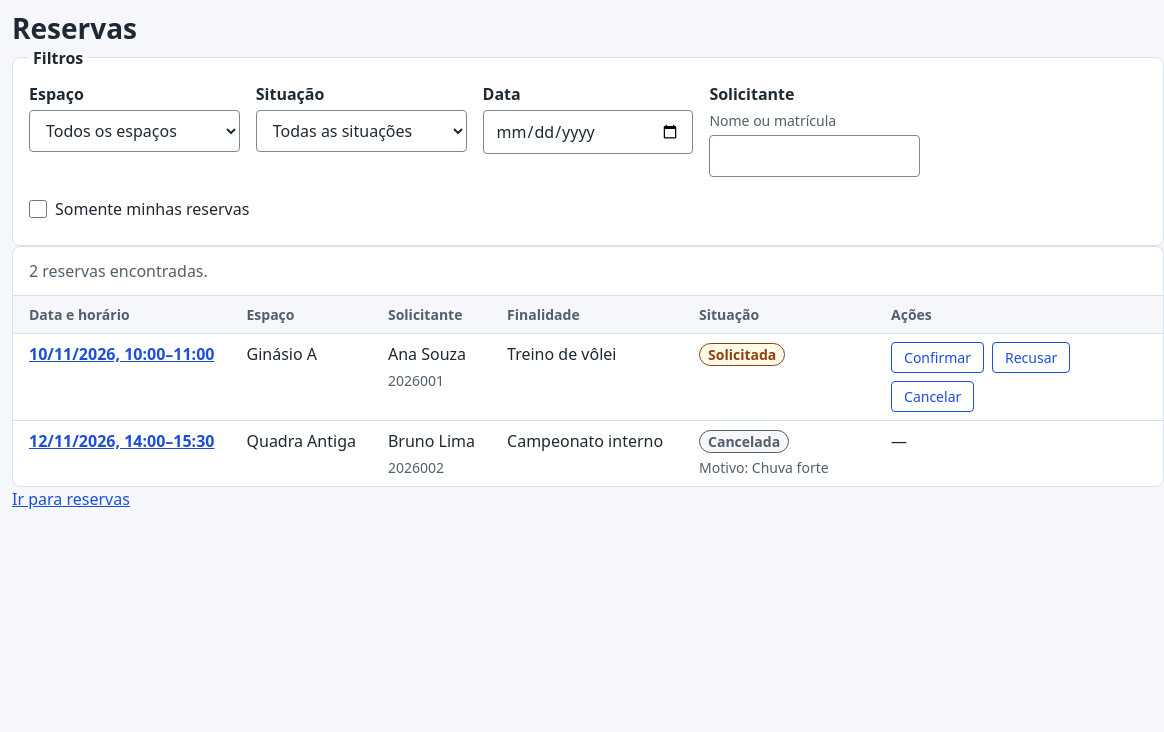
PaginaReservas › "Somente minhas reservas" consulta com minhas=true
Expected: the table is shown, [13, 247, 1163, 486]
Click the checkbox labelled "Somente minhas reservas" at (38, 209), box [29, 200, 47, 218]
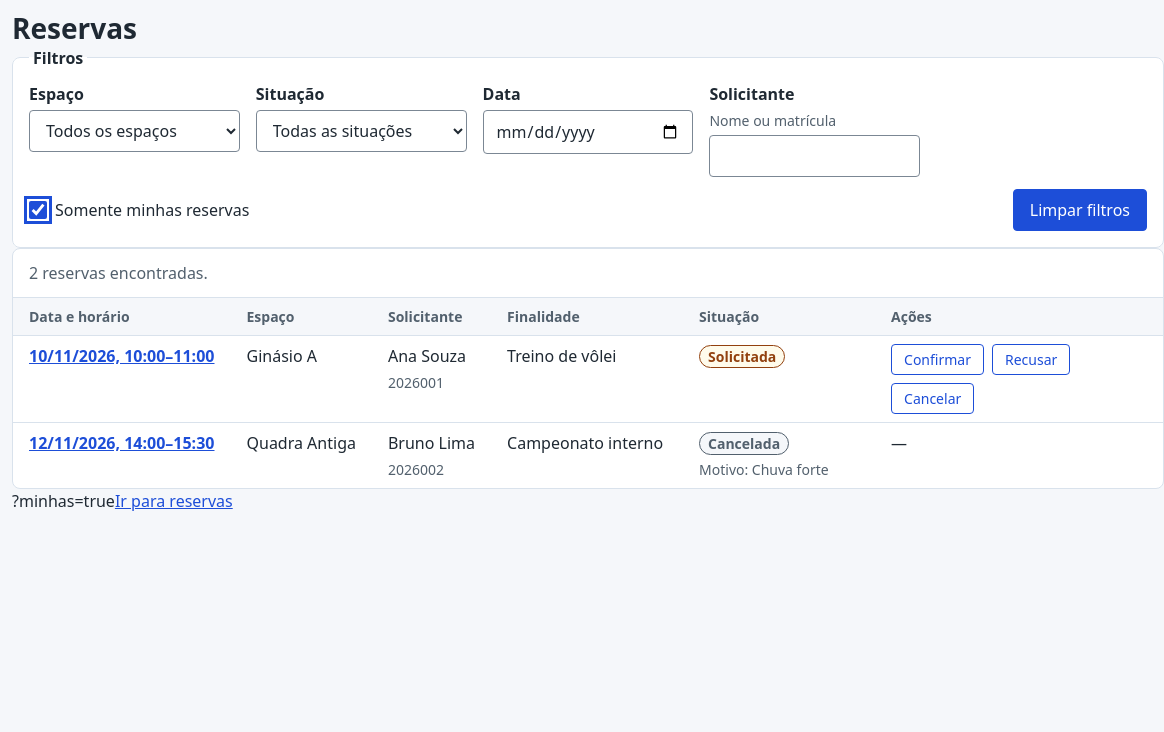
Expected: the text with test id "busca" reads "?minhas=true", [12, 490, 115, 512]
